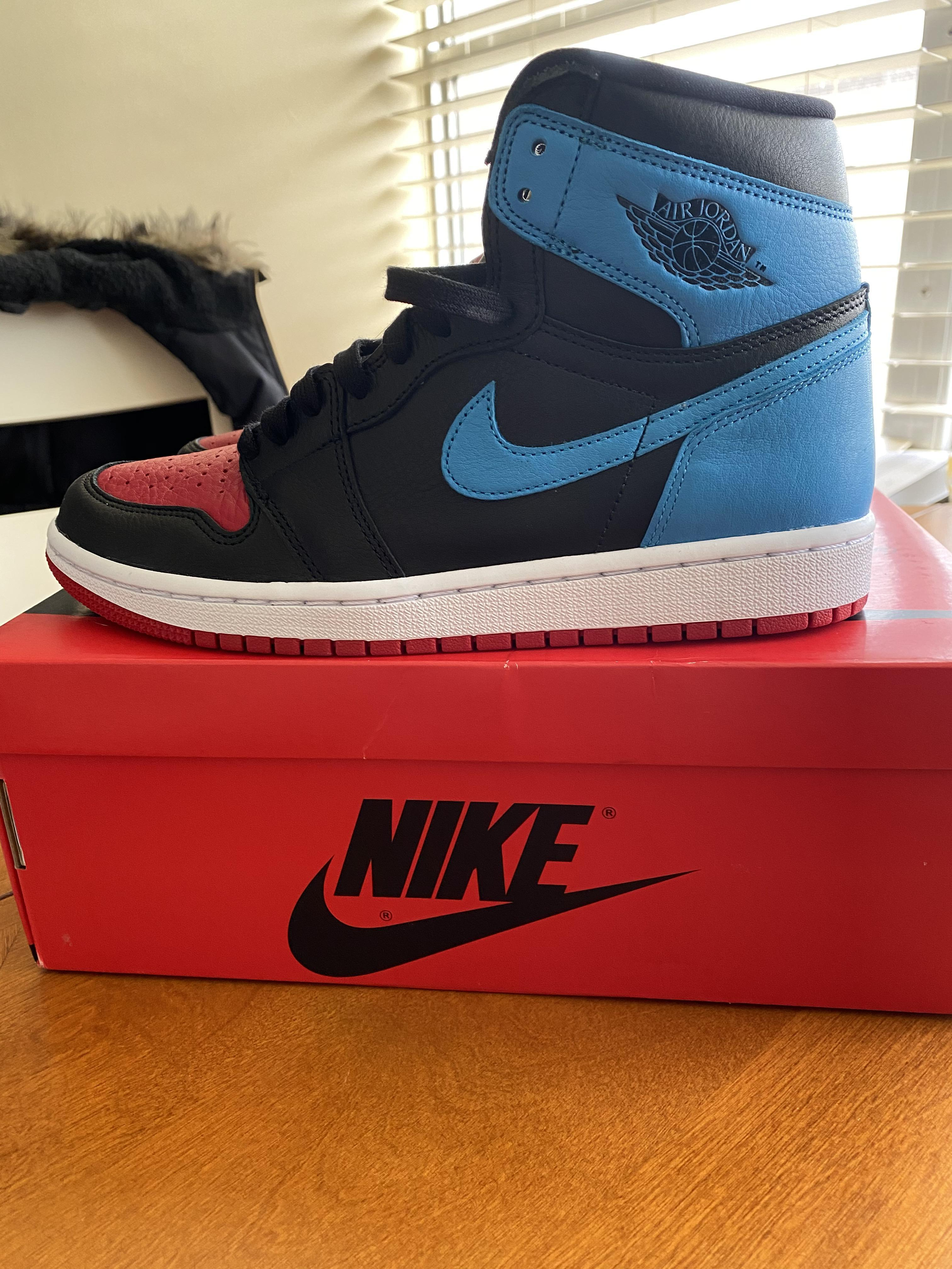sneaker: (46, 41, 881, 656)
